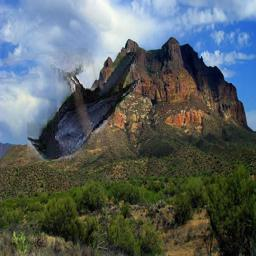Crow: (27, 49, 141, 162)
